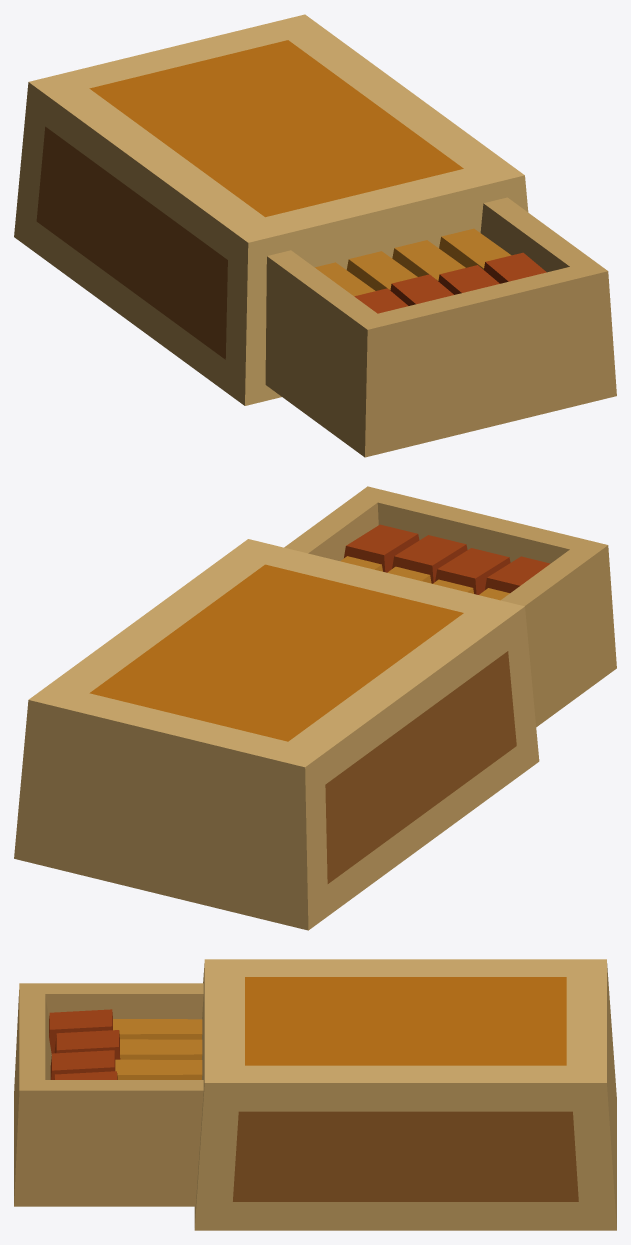
The model's file is SM_Matches.fbx.
The picture shows the model from 3 angles, top to bottom: view 1: azimuth 30°, elevation 25°; view 2: azimuth 150°, elevation 25°; view 3: azimuth 270°, elevation 25°; orthographic projection. The views are drawn at different scales.
Parts seen in each view (by area): view 1: SM_Matches; view 2: SM_Matches; view 3: SM_Matches.
Part boxes in pixels (x1,y1,x2,y2): SM_Matches: [14, 14, 616, 457]; SM_Matches: [14, 486, 616, 930]; SM_Matches: [14, 959, 616, 1230].
Bounding box in the file's own units: 7 × 3.57 × 13.58.
